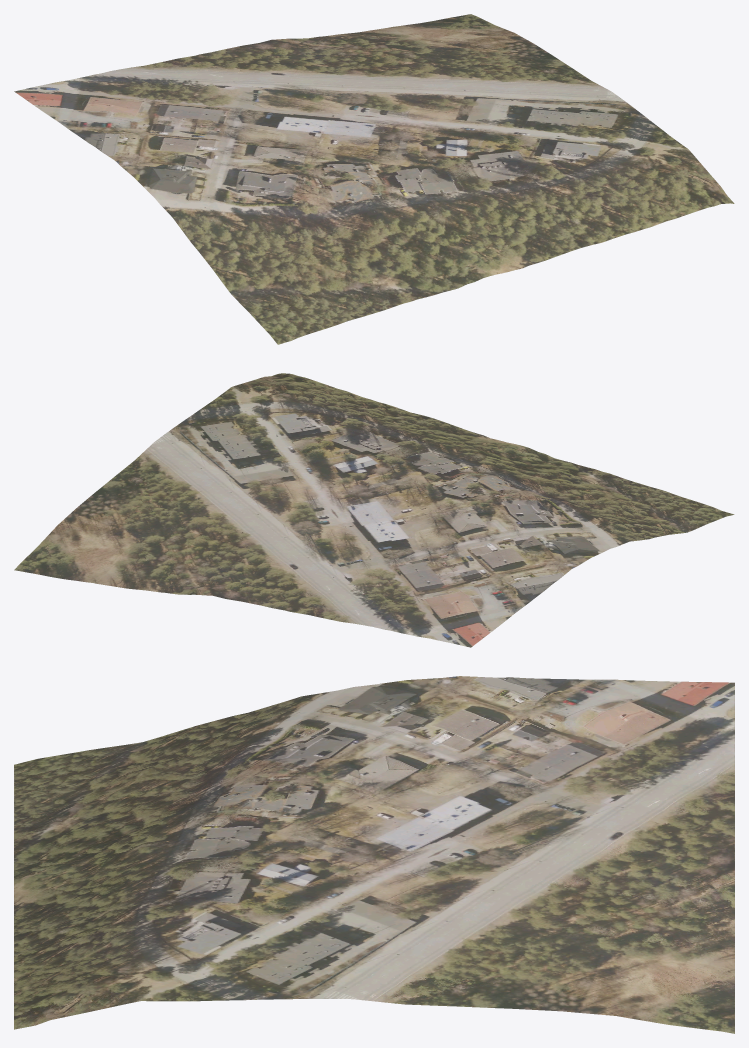
File: CM_Terrain_24489639_6820204.fbx
The picture shows the model from 3 angles, top to bottom: view 1: azimuth 30°, elevation 25°; view 2: azimuth 150°, elevation 25°; view 3: azimuth 270°, elevation 25°; orthographic projection. The views are drawn at different scales.
Visible parts, largest first — view 1: CM_Terrain_24489639_6820204_LOD0; view 2: CM_Terrain_24489639_6820204_LOD0; view 3: CM_Terrain_24489639_6820204_LOD0.
Part boxes in pixels (x1,y1,x2,y2): CM_Terrain_24489639_6820204_LOD0: [14, 14, 734, 344]; CM_Terrain_24489639_6820204_LOD0: [14, 373, 734, 647]; CM_Terrain_24489639_6820204_LOD0: [14, 676, 734, 1033].
Size of what is drawn, in the model's own units: 205 by 27.83 by 205.
